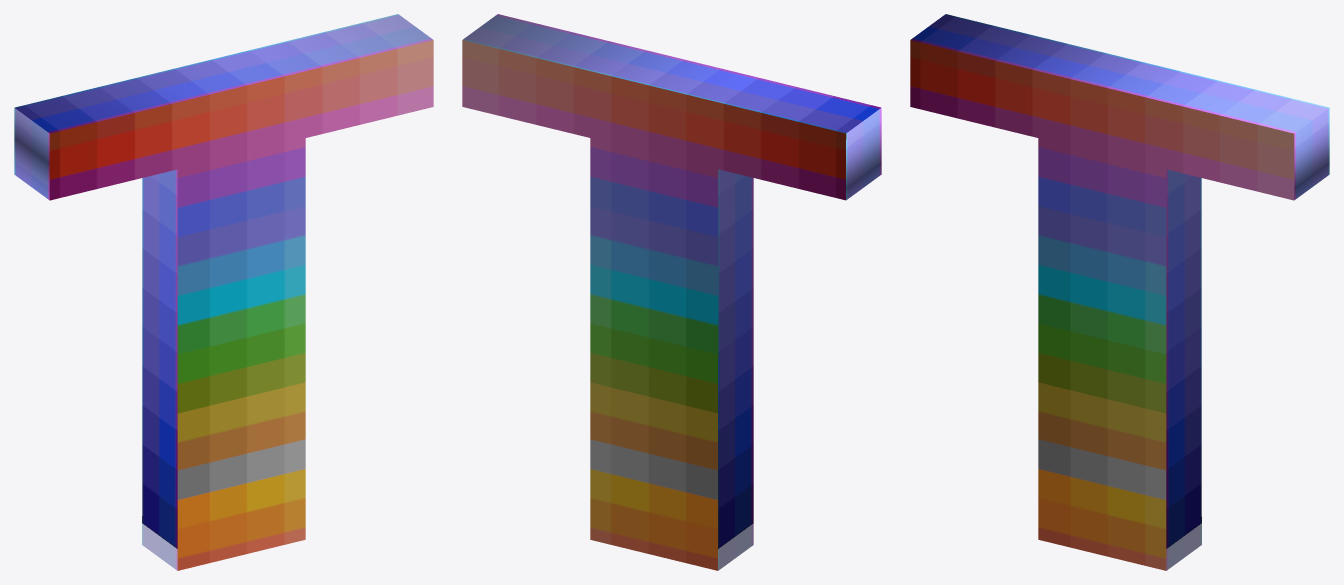
3 renders of one model, left to right at view 1: azimuth 30°, elevation 25°; view 2: azimuth 150°, elevation 25°; view 3: azimuth 330°, elevation 25°, orthographic.
Parts seen in each view (by area): view 1: t; view 2: t; view 3: t.
Boxes of the visible parts, x1=… form: t: x1=14, y1=14, x2=433, y2=570; t: x1=462, y1=14, x2=881, y2=570; t: x1=910, y1=14, x2=1329, y2=570.
Bounding box in the file's own units: 0.5 × 0.5834 × 0.0803.
Materials: 1 (1 with a texture image).
